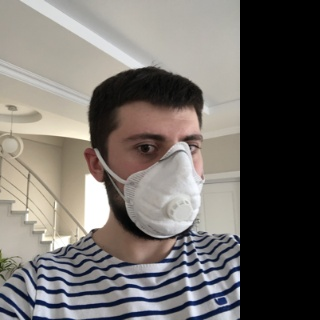with_mask: (121, 120, 204, 240)
